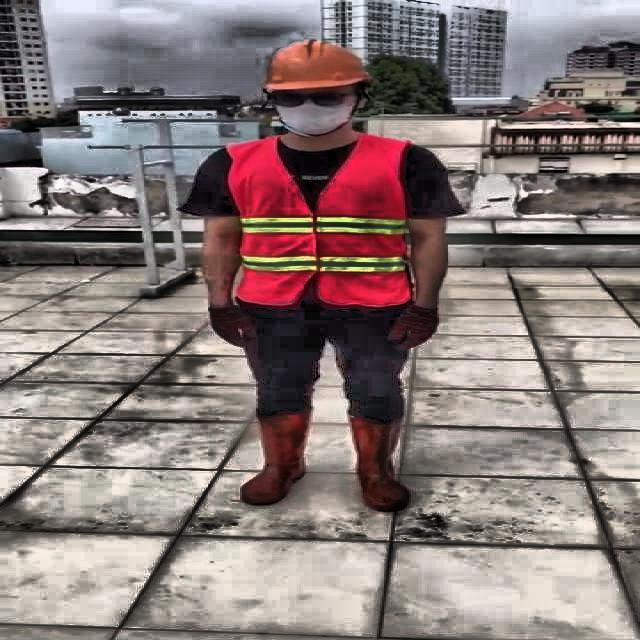safety_jacket: (231, 136, 411, 306)
